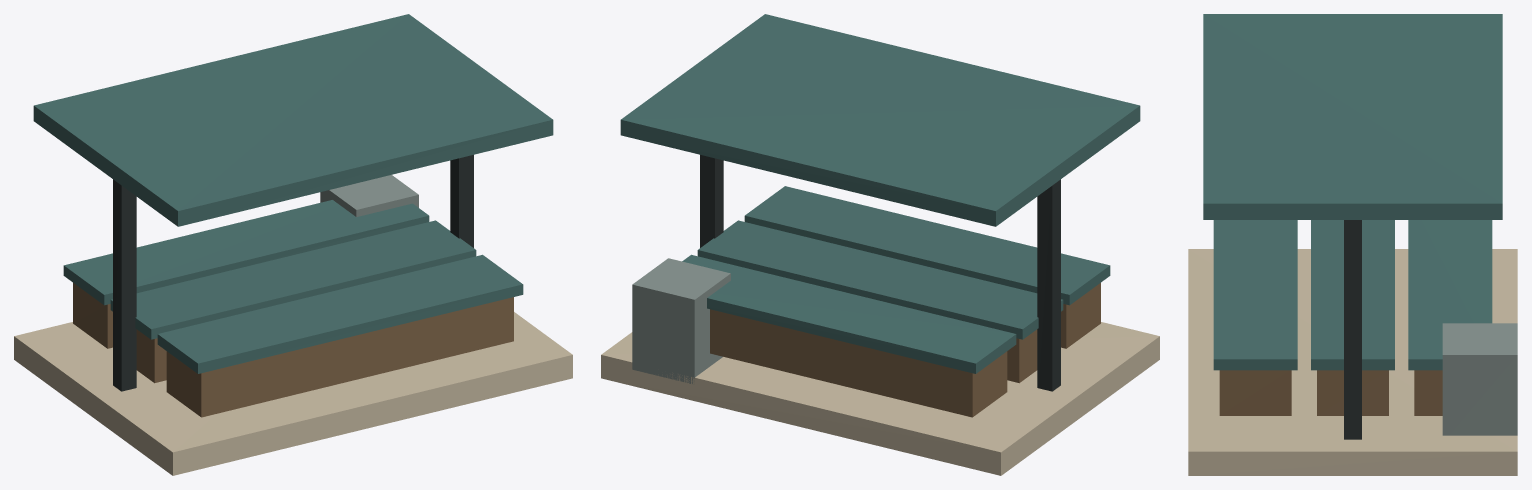
File: Worm-Farm.glb
3 views of the same model, side by side, from view 1: azimuth 30°, elevation 25°; view 2: azimuth 150°, elevation 25°; view 3: azimuth 270°, elevation 25° (orthographic). The views are drawn at different scales.
Parts seen in each view (by area): view 1: worm-farm-static-worm-teal, worm-farm-static-worm-cream, worm-farm-static-worm-timber, worm-farm-static-worm-iron, worm-farm-static-worm-galv; view 2: worm-farm-static-worm-teal, worm-farm-static-worm-cream, worm-farm-static-worm-timber, worm-farm-static-worm-galv, worm-farm-static-worm-iron; view 3: worm-farm-static-worm-teal, worm-farm-static-worm-cream, worm-farm-static-worm-galv, worm-farm-static-worm-timber, worm-farm-static-worm-iron.
Boxes of the visible parts, x1,y1,x2,y2 form: worm-farm-static-worm-teal: [33, 14, 553, 373]; worm-farm-static-worm-cream: [14, 312, 572, 475]; worm-farm-static-worm-timber: [73, 283, 513, 417]; worm-farm-static-worm-iron: [113, 155, 473, 391]; worm-farm-static-worm-galv: [320, 175, 418, 216]; worm-farm-static-worm-teal: [620, 14, 1140, 373]; worm-farm-static-worm-cream: [601, 322, 1159, 475]; worm-farm-static-worm-timber: [710, 283, 1100, 417]; worm-farm-static-worm-galv: [632, 258, 730, 383]; worm-farm-static-worm-iron: [700, 155, 1060, 391]; worm-farm-static-worm-teal: [1203, 14, 1502, 370]; worm-farm-static-worm-cream: [1188, 249, 1517, 475]; worm-farm-static-worm-galv: [1442, 323, 1517, 435]; worm-farm-static-worm-timber: [1219, 370, 1442, 415]; worm-farm-static-worm-iron: [1344, 220, 1361, 439].
Bounding box in the file's own units: 3.2 × 1.96 × 2.2.
